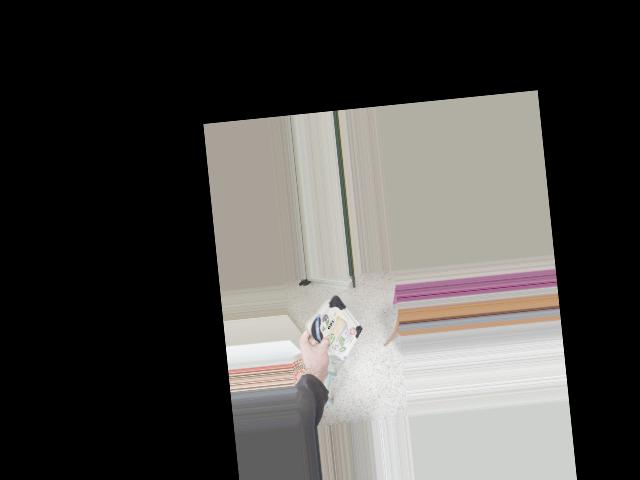cheese: (291, 294, 370, 354)
